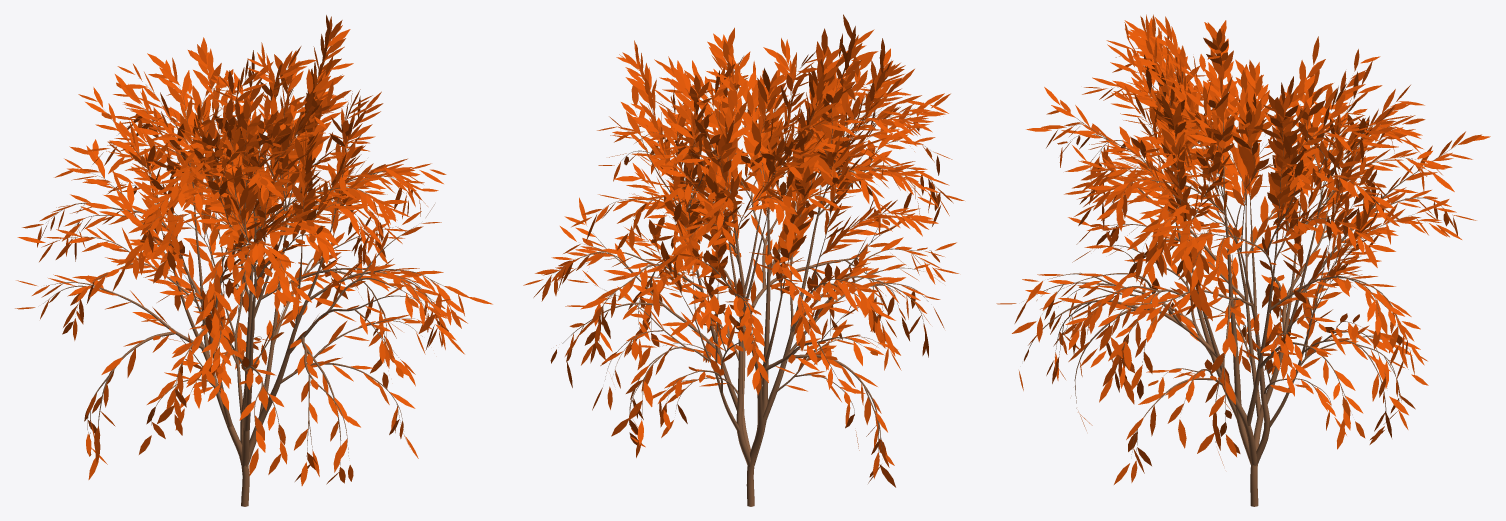
File: tree-autumn-complete-misc-0-014.glb
3 renders of one model, left to right at view 1: azimuth 30°, elevation 25°; view 2: azimuth 150°, elevation 25°; view 3: azimuth 270°, elevation 25°, orthographic. The views are drawn at different scales.
Visible parts, largest first — view 1: leaves.001_379, tree.005_422; view 2: leaves.001_379, tree.005_422; view 3: leaves.001_379, tree.005_422.
Boxes of the visible parts, box(x1,y1,x2,y2) form: leaves.001_379: box(15, 15, 492, 485); tree.005_422: box(43, 74, 450, 506); leaves.001_379: box(523, 14, 964, 487); tree.005_422: box(553, 75, 937, 506); leaves.001_379: box(996, 14, 1490, 484); tree.005_422: box(1023, 43, 1455, 506).
Bounding box in the file's own units: 1.58 × 1.9 × 1.82.
